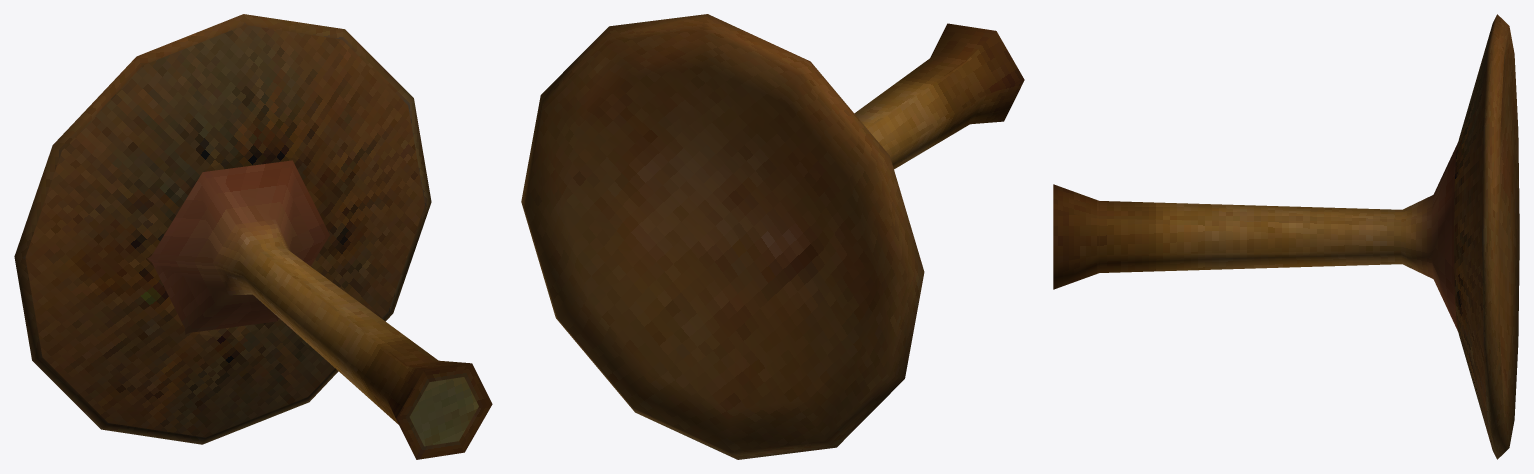
File: mushroom_n_3.glb
3 renders of one model, left to right at view 1: azimuth 30°, elevation 25°; view 2: azimuth 150°, elevation 25°; view 3: azimuth 270°, elevation 25°, orthographic. The views are drawn at different scales.
Visible parts, largest first — view 1: mushroom_n_3; view 2: mushroom_n_3; view 3: mushroom_n_3.
Boxes of the visible parts, bbox=[...] form: mushroom_n_3: bbox=[14, 14, 492, 459]; mushroom_n_3: bbox=[521, 14, 1024, 459]; mushroom_n_3: bbox=[1053, 14, 1519, 459].
Size of the model in its own units: 0.1384 by 0.1385 by 0.1455.
Materials: 1 (1 with a texture image).
